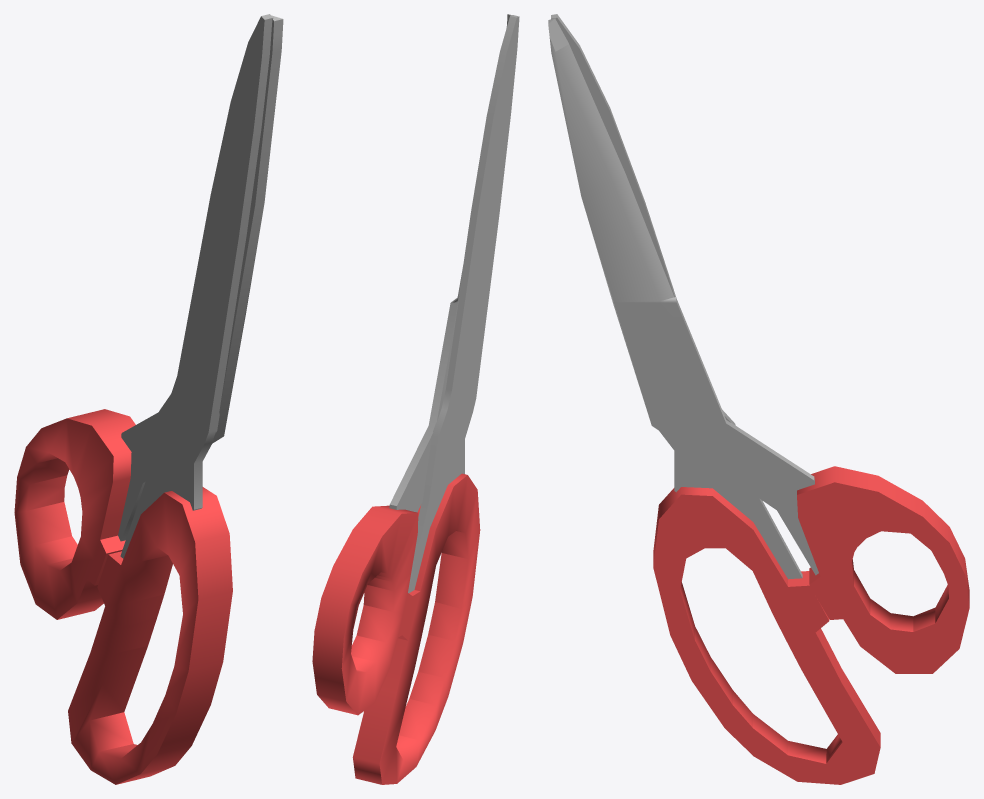
File: Scissors.fbx
3 views of the same model, side by side, from view 1: azimuth 30°, elevation 25°; view 2: azimuth 150°, elevation 25°; view 3: azimuth 270°, elevation 25° (orthographic). The views are drawn at different scales.
Parts seen in each view (by area): view 1: polySurface3, polySurface4, polySurface2, polySurface1; view 2: polySurface3, polySurface2, polySurface4, polySurface1; view 3: polySurface1, polySurface3, polySurface2, polySurface4.
Part boxes in pixels (box(x1,y1,x2,y2)): polySurface3: box(68, 487, 232, 784); polySurface4: box(120, 14, 273, 558); polySurface2: box(14, 409, 135, 619); polySurface1: box(118, 15, 283, 541); polySurface3: box(352, 473, 480, 784); polySurface2: box(312, 505, 418, 715); polySurface4: box(408, 15, 519, 593); polySurface1: box(389, 14, 511, 512); polySurface1: box(548, 18, 818, 575); polySurface3: box(653, 487, 880, 784); polySurface2: box(797, 466, 969, 673); polySurface4: box(551, 14, 802, 579).
Size of the model in its own units: 0.2948 by 6.46 by 3.25.
